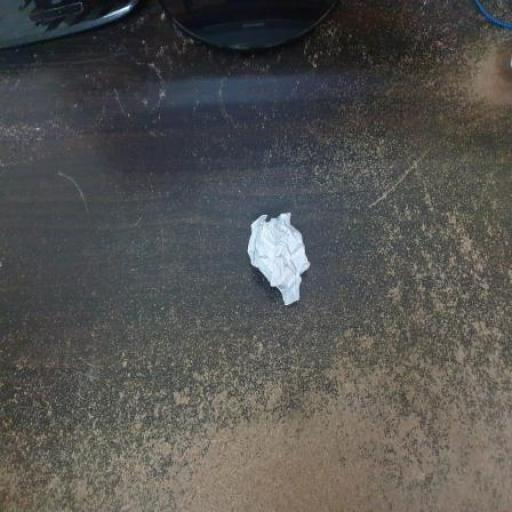paper: (220, 190, 348, 363)
